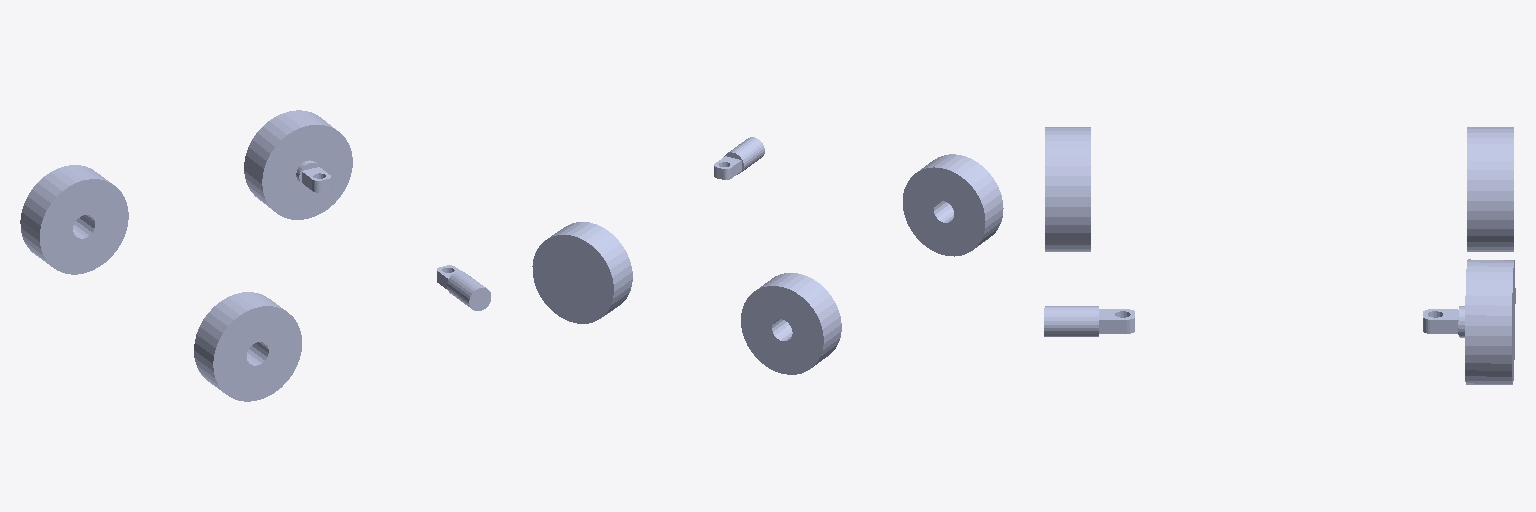
URDF robot description (My_urdf):
<?xml version="1.0" encoding="utf-8"?>
<!-- This URDF was automatically created by SolidWorks to URDF Exporter! Originally created by [author] ([email redacted]) 
     Commit Version: 1.6.0-1-g15f4949  Build Version: 1.6.7594.29634
     For more information, please see http://wiki.ros.org/sw_urdf_exporter -->
<robot
  name="My_urdf">
  <link
    name="base_link">
    <inertial>
      <origin
        xyz="0.421226910973991 -0.430182950446234 0.506652402868975"
        rpy="0 0 0" />
      <mass
        value="42.8861348655346" />
      <inertia
        ixx="1.00588271538571"
        ixy="-1.46408273029841E-07"
        ixz="-0.0167901751526594"
        iyy="1.73667960585585"
        iyz="5.80765073155769E-08"
        izz="2.43688572871735" />
    </inertial>
    <visual>
      <origin
        xyz="0 0 0"
        rpy="0 0 0" />
      <geometry>
        <mesh
          filename="package://My_urdf/meshes/base_link.STL" />
      </geometry>
      <material
        name="">
        <color
          rgba="0.792156862745098 0.819607843137255 0.933333333333333 1" />
      </material>
    </visual>
    <collision>
      <origin
        xyz="0 0 0"
        rpy="0 0 0" />
      <geometry>
        <mesh
          filename="package://My_urdf/meshes/base_link.STL" />
      </geometry>
    </collision>
  </link>
  <link
    name="Front_right_coupling">
    <inertial>
      <origin
        xyz="1.11022302462516E-16 0.0254 0.0683656936375808"
        rpy="0 0 0" />
      <mass
        value="0.225860858102532" />
      <inertia
        ixx="0.000343266997104211"
        ixy="-1.83420705937824E-22"
        ixz="-7.50378547038704E-19"
        iyy="0.000348044864929135"
        iyz="1.10048511307746E-21"
        izz="6.78133565103266E-05" />
    </inertial>
    <visual>
      <origin
        xyz="0 0 0"
        rpy="0 0 0" />
      <geometry>
        <mesh
          filename="package://My_urdf/meshes/Front_right_coupling.STL" />
      </geometry>
      <material
        name="">
        <color
          rgba="0.792156862745098 0.819607843137255 0.933333333333333 1" />
      </material>
    </visual>
    <collision>
      <origin
        xyz="0 0 0"
        rpy="0 0 0" />
      <geometry>
        <mesh
          filename="package://My_urdf/meshes/Front_right_coupling.STL" />
      </geometry>
    </collision>
  </link>
  <joint
    name="Front_right_coupling_joint"
    type="revolute">
    <origin
      xyz="0.67855 -0.68418 0.36349"
      rpy="1.5708 0 -0.0014101" />
    <parent
      link="base_link" />
    <child
      link="Front_right_coupling" />
    <axis
      xyz="0 1 0" />
    <limit
      lower="0"
      upper="0"
      effort="0"
      velocity="0" />
  </joint>
  <link
    name="Frnt_right_tyre">
    <inertial>
      <origin
        xyz="-2.22044604925031E-16 -3.33066907387547E-16 0.0380998484832361"
        rpy="0 0 0" />
      <mass
        value="2.31666659443376" />
      <inertia
        ixx="0.00747310310032442"
        ixy="6.58762503934168E-20"
        ixz="-1.76902831034061E-17"
        iyy="0.00747310310032441"
        iyz="-1.88642707683005E-17"
        izz="0.0127042752705515" />
    </inertial>
    <visual>
      <origin
        xyz="0 0 0"
        rpy="0 0 0" />
      <geometry>
        <mesh
          filename="package://My_urdf/meshes/Frnt_right_tyre.STL" />
      </geometry>
      <material
        name="">
        <color
          rgba="0.792156862745098 0.819607843137255 0.933333333333333 1" />
      </material>
    </visual>
    <collision>
      <origin
        xyz="0 0 0"
        rpy="0 0 0" />
      <geometry>
        <mesh
          filename="package://My_urdf/meshes/Frnt_right_tyre.STL" />
      </geometry>
    </collision>
  </link>
  <joint
    name="Frnt_rght_tyre_joint"
    type="revolute">
    <origin
      xyz="0 0.0254 0.0508"
      rpy="0 0 2.4249" />
    <parent
      link="Front_right_coupling" />
    <child
      link="Frnt_right_tyre" />
    <axis
      xyz="0 0 1" />
    <limit
      lower="0"
      upper="0"
      effort="0"
      velocity="0" />
  </joint>
  <link
    name="Front_left_coupling">
    <inertial>
      <origin
        xyz="0 0.0254 0.0683656936375813"
        rpy="0 0 0" />
      <mass
        value="0.225860858102532" />
      <inertia
        ixx="0.000343266997104211"
        ixy="4.06423880300902E-24"
        ixz="1.16043513773839E-19"
        iyy="0.000348044864929136"
        iyz="1.51452262272646E-21"
        izz="6.78133565103265E-05" />
    </inertial>
    <visual>
      <origin
        xyz="0 0 0"
        rpy="0 0 0" />
      <geometry>
        <mesh
          filename="package://My_urdf/meshes/Front_left_coupling.STL" />
      </geometry>
      <material
        name="">
        <color
          rgba="0.792156862745098 0.819607843137255 0.933333333333333 1" />
      </material>
    </visual>
    <collision>
      <origin
        xyz="0 0 0"
        rpy="0 0 0" />
      <geometry>
        <mesh
          filename="package://My_urdf/meshes/Front_left_coupling.STL" />
      </geometry>
    </collision>
  </link>
  <joint
    name="Front_left_coupling_joint"
    type="revolute">
    <origin
      xyz="0.67855 -0.17618 0.36349"
      rpy="1.5708 0 3.1112" />
    <parent
      link="base_link" />
    <child
      link="Front_left_coupling" />
    <axis
      xyz="0 1 0" />
    <limit
      lower="0"
      upper="0"
      effort="0"
      velocity="0" />
  </joint>
  <link
    name="Front_left_tyre">
    <inertial>
      <origin
        xyz="6.66133814775094E-16 -1.11022302462516E-16 -0.0380295264426354"
        rpy="0 0 0" />
      <mass
        value="2.31666659443376" />
      <inertia
        ixx="0.00747310310032442"
        ixy="-1.9280587461876E-19"
        ixz="9.0801931945661E-19"
        iyy="0.00747310310032442"
        iyz="7.18283939271647E-19"
        izz="0.0127042752705515" />
    </inertial>
    <visual>
      <origin
        xyz="0 0 0"
        rpy="0 0 0" />
      <geometry>
        <mesh
          filename="package://My_urdf/meshes/Front_left_tyre.STL" />
      </geometry>
      <material
        name="">
        <color
          rgba="0.792156862745098 0.819607843137255 0.933333333333333 1" />
      </material>
    </visual>
    <collision>
      <origin
        xyz="0 0 0"
        rpy="0 0 0" />
      <geometry>
        <mesh
          filename="package://My_urdf/meshes/Front_left_tyre.STL" />
      </geometry>
    </collision>
  </link>
  <joint
    name="Frnt_lft_tyr_joint"
    type="revolute">
    <origin
      xyz="0 0.0254 0.05087"
      rpy="-3.1416 0 0.28244" />
    <parent
      link="Front_left_coupling" />
    <child
      link="Front_left_tyre" />
    <axis
      xyz="0 0 1" />
    <limit
      lower="0"
      upper="0"
      effort="0"
      velocity="0" />
  </joint>
  <link
    name="Rear_right_tyre">
    <inertial>
      <origin
        xyz="-1.66533453693773E-16 -5.55111512312578E-17 0.0380999999999999"
        rpy="0 0 0" />
      <mass
        value="2.31666659443376" />
      <inertia
        ixx="0.00747310310032441"
        ixy="0"
        ixz="5.73907764946154E-20"
        iyy="0.00747310310032441"
        iyz="8.96526149226369E-20"
        izz="0.0127042752705515" />
    </inertial>
    <visual>
      <origin
        xyz="0 0 0"
        rpy="0 0 0" />
      <geometry>
        <mesh
          filename="package://My_urdf/meshes/Rear_right_tyre.STL" />
      </geometry>
      <material
        name="">
        <color
          rgba="0.792156862745098 0.819607843137255 0.933333333333333 1" />
      </material>
    </visual>
    <collision>
      <origin
        xyz="0 0 0"
        rpy="0 0 0" />
      <geometry>
        <mesh
          filename="package://My_urdf/meshes/Rear_right_tyre.STL" />
      </geometry>
    </collision>
  </link>
  <joint
    name="Rear_right_tyre_joint"
    type="revolute">
    <origin
      xyz="0.17055 -0.73498 0.38889"
      rpy="1.5708 -0.8144 0" />
    <parent
      link="base_link" />
    <child
      link="Rear_right_tyre" />
    <axis
      xyz="0 0 1" />
    <limit
      lower="0"
      upper="0"
      effort="0"
      velocity="0" />
  </joint>
  <link
    name="Rear_left_tyre">
    <inertial>
      <origin
        xyz="4.16333634234434E-17 5.55111512312578E-17 0.0381"
        rpy="0 0 0" />
      <mass
        value="2.31666659443376" />
      <inertia
        ixx="0.00747310310032442"
        ixy="0"
        ixz="-1.57918395899449E-19"
        iyy="0.00747310310032442"
        iyz="1.0048451175268E-19"
        izz="0.0127042752705515" />
    </inertial>
    <visual>
      <origin
        xyz="0 0 0"
        rpy="0 0 0" />
      <geometry>
        <mesh
          filename="package://My_urdf/meshes/Rear_left_tyre.STL" />
      </geometry>
      <material
        name="">
        <color
          rgba="0.792156862745098 0.819607843137255 0.933333333333333 1" />
      </material>
    </visual>
    <collision>
      <origin
        xyz="0 0 0"
        rpy="0 0 0" />
      <geometry>
        <mesh
          filename="package://My_urdf/meshes/Rear_left_tyre.STL" />
      </geometry>
    </collision>
  </link>
  <joint
    name="Rear_left_tyre_joint"
    type="revolute">
    <origin
      xyz="0.17055 -0.049183 0.38889"
      rpy="-1.5708 -0.24309 3.1416" />
    <parent
      link="base_link" />
    <child
      link="Rear_left_tyre" />
    <axis
      xyz="0 0 1" />
    <limit
      lower="0"
      upper="0"
      effort="0"
      velocity="0" />
  </joint>
</robot>

--- What the picture shows (computed from the rendered views, not written in the file) ---
The picture shows the robot from 3 angles, left to right: view 1: azimuth 30°, elevation 25°; view 2: azimuth 150°, elevation 25°; view 3: azimuth 270°, elevation 25°; orthographic projection.
Model My_urdf with 7 links and 6 joints (6 revolute), rooted at base_link, posed every joint at zero.
Visible links, largest first — view 1: Rear_right_tyre, Rear_left_tyre, Front_left_tyre, Front_right_coupling, Front_left_coupling; view 2: Rear_left_tyre, Rear_right_tyre, Front_left_tyre, Front_right_coupling; view 3: Front_left_tyre, Rear_left_tyre, Rear_right_tyre, Front_right_coupling, Front_left_coupling.
Boxes of the visible links, bbox=[...] form: Rear_right_tyre: bbox=[194, 292, 301, 401]; Rear_left_tyre: bbox=[20, 165, 128, 274]; Front_left_tyre: bbox=[244, 110, 352, 219]; Front_right_coupling: bbox=[437, 265, 490, 310]; Front_left_coupling: bbox=[296, 160, 330, 192]; Rear_left_tyre: bbox=[741, 273, 841, 374]; Rear_right_tyre: bbox=[903, 154, 1003, 256]; Front_left_tyre: bbox=[532, 222, 632, 323]; Front_right_coupling: bbox=[714, 137, 764, 179]; Front_left_tyre: bbox=[1465, 259, 1515, 384]; Rear_left_tyre: bbox=[1467, 127, 1513, 251]; Rear_right_tyre: bbox=[1045, 127, 1090, 251]; Front_right_coupling: bbox=[1044, 306, 1134, 336]; Front_left_coupling: bbox=[1423, 306, 1513, 337].
Size in the robot's own frame: 0.7149 by 0.7651 by 0.2032 metres.
Meshes: 7 distinct files referenced, 5 mesh visuals loaded (5 binary STL); not drawn: 2 (reference not matched to a file when rendering).